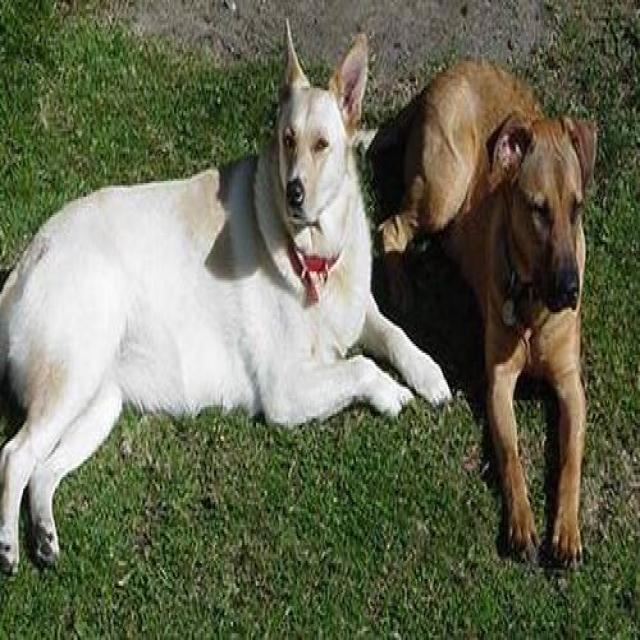relax: (0, 6, 419, 532), (383, 17, 609, 600)
